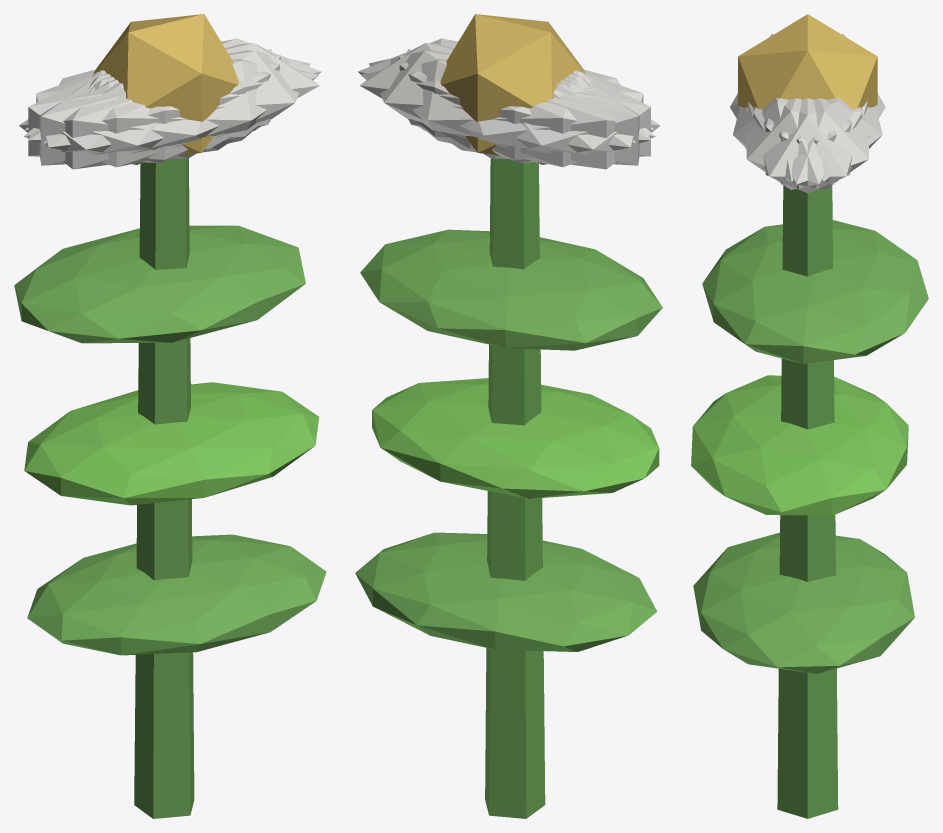
File: ixora-chinensis.glb
3 renders of one model, left to right at view 1: azimuth 30°, elevation 25°; view 2: azimuth 150°, elevation 25°; view 3: azimuth 270°, elevation 25°, orthographic.
Visible parts, largest first — view 1: leaf1, leaf0, leaf2, stem, center, petal1, petal6, petal2, petal5, petal7, petal0, petal4 (+2 smaller); view 2: leaf2, leaf0, leaf1, stem, center, petal8, petal3, petal7, petal4, petal2, petal0, petal5 (+2 smaller); view 3: leaf2, leaf0, leaf1, stem, center, petal0, petal5, petal4, petal8, petal1.
Boxes of the visible parts, x1,y1,x2,y2 form: leaf1: [24, 382, 319, 505]; leaf0: [27, 534, 326, 655]; leaf2: [14, 225, 305, 343]; stem: [134, 158, 194, 818]; center: [93, 14, 238, 155]; petal1: [24, 59, 318, 167]; petal6: [19, 72, 232, 169]; petal2: [39, 49, 271, 165]; petal5: [44, 50, 310, 159]; petal7: [28, 55, 280, 162]; petal0: [93, 43, 319, 149]; petal4: [25, 38, 321, 140]; leaf2: [360, 229, 662, 350]; leaf0: [355, 532, 656, 651]; leaf1: [372, 378, 659, 498]; stem: [485, 158, 545, 818]; center: [440, 14, 585, 155]; petal8: [360, 59, 655, 167]; petal3: [447, 72, 660, 169]; petal7: [407, 49, 639, 165]; petal4: [369, 50, 635, 159]; petal2: [398, 55, 650, 162]; petal0: [360, 43, 585, 149]; petal5: [358, 38, 654, 140]; leaf2: [702, 220, 928, 363]; leaf0: [693, 532, 914, 673]; leaf1: [691, 375, 908, 515]; stem: [777, 185, 838, 818]; center: [738, 14, 877, 109]; petal0: [748, 98, 867, 193]; petal5: [746, 98, 862, 189]; petal4: [753, 98, 869, 189]; petal8: [763, 98, 882, 181]; petal1: [733, 98, 851, 181].
Size of the model in its own units: 0.1452 by 0.374 by 0.1043.
